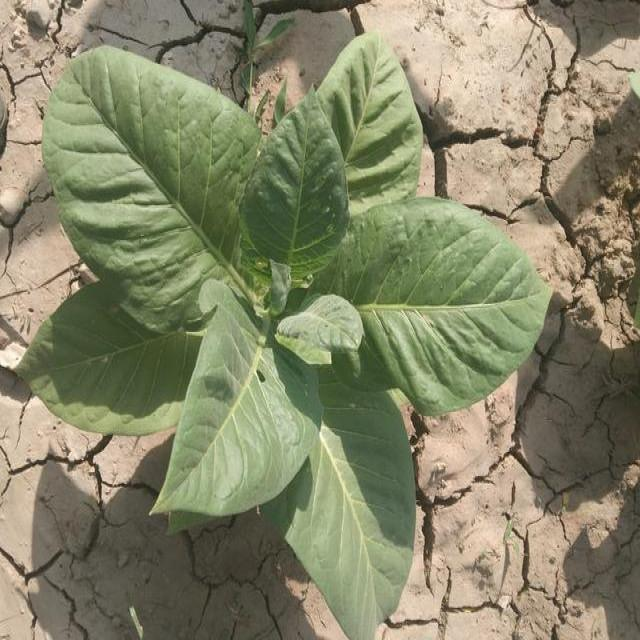crop: (28, 35, 546, 640)
